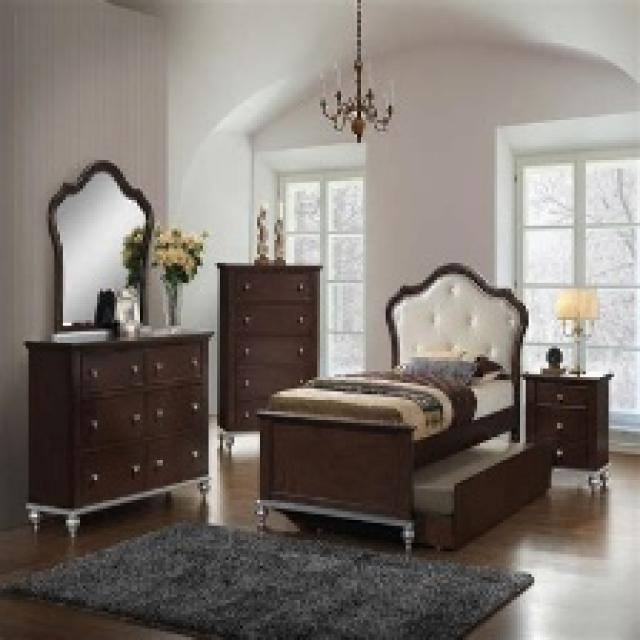Bed: (251, 260, 546, 554)
